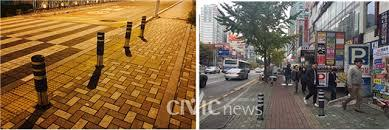Animal: (26, 55, 53, 105), (120, 19, 141, 53), (91, 28, 108, 67), (252, 92, 265, 118), (315, 90, 328, 114)
